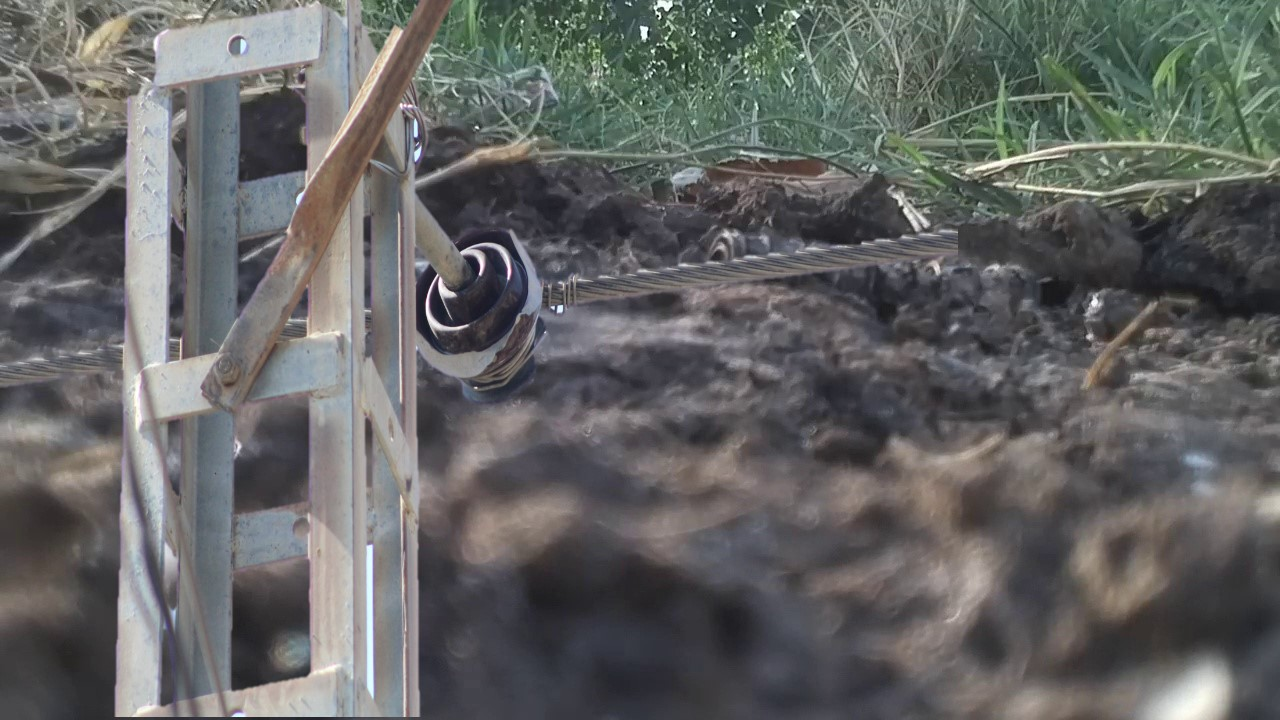defect_pin: (414, 227, 555, 410)
